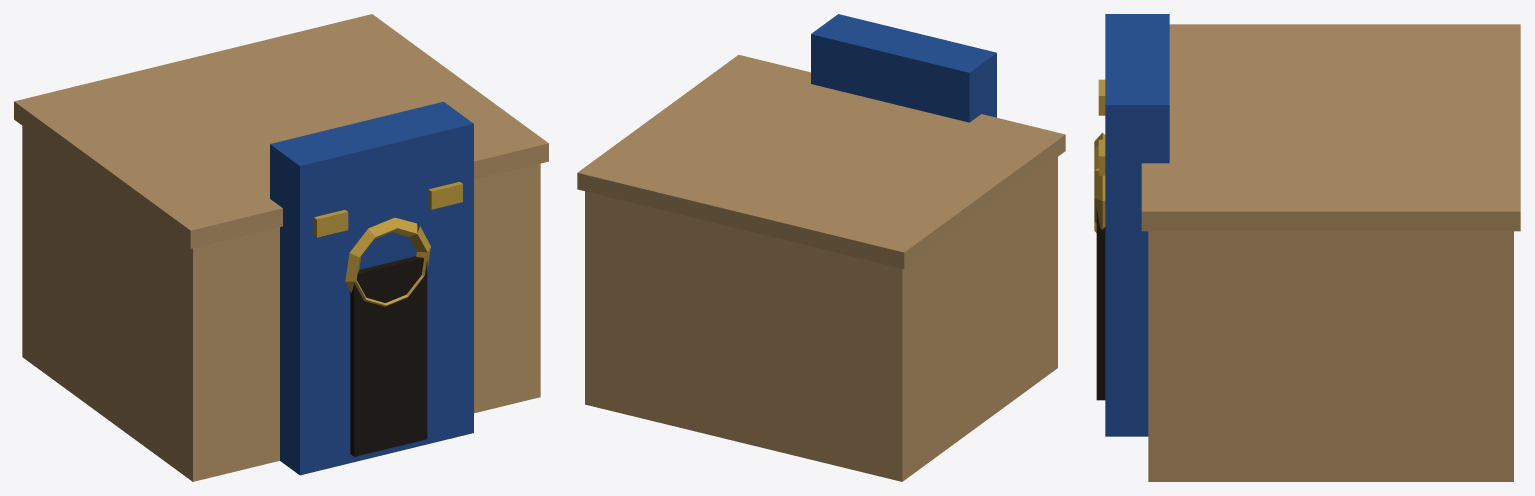
Rendered from minotaur_house_c_broken.glb.
The picture shows the model from 3 angles, left to right: view 1: azimuth 30°, elevation 25°; view 2: azimuth 150°, elevation 25°; view 3: azimuth 270°, elevation 25°; orthographic projection. The views are drawn at different scales.
Parts seen in each view (by area): view 1: minotaur_house_c_piece0, minotaur_house_c_piece4, minotaur_house_c_piece2, minotaur_house_c_piece1, minotaur_house_c_piece9, minotaur_house_c_piece3, minotaur_house_c_piece5, minotaur_house_c_piece6, minotaur_house_c_piece8; view 2: minotaur_house_c_piece3, minotaur_house_c_piece0, minotaur_house_c_piece5, minotaur_house_c_piece8, minotaur_house_c_piece1, minotaur_house_c_piece4, minotaur_house_c_piece9, minotaur_house_c_piece2, minotaur_house_c_piece7; view 3: minotaur_house_c_piece5, minotaur_house_c_piece1, minotaur_house_c_piece3, minotaur_house_c_piece4, minotaur_house_c_piece0, minotaur_house_c_piece6, minotaur_house_c_piece2.
Boxes of the visible parts, x1,y1,x2,y2 form: minotaur_house_c_piece0: (16,103,267,426); minotaur_house_c_piece4: (277,104,473,442); minotaur_house_c_piece2: (215,132,432,475); minotaur_house_c_piece1: (283,85,548,342); minotaur_house_c_piece9: (45,255,258,481); minotaur_house_c_piece3: (14,43,299,156); minotaur_house_c_piece5: (254,14,469,102); minotaur_house_c_piece6: (439,305,540,441); minotaur_house_c_piece8: (22,155,62,385); minotaur_house_c_piece3: (681,136,910,396); minotaur_house_c_piece0: (870,117,1065,358); minotaur_house_c_piece5: (577,107,783,416); minotaur_house_c_piece8: (700,287,938,481); minotaur_house_c_piece1: (667,29,853,161); minotaur_house_c_piece4: (818,14,996,123); minotaur_house_c_piece9: (923,317,1057,454); minotaur_house_c_piece2: (848,68,996,170); minotaur_house_c_piece7: (637,389,725,438); minotaur_house_c_piece5: (1251,129,1520,481); minotaur_house_c_piece1: (1105,99,1372,452); minotaur_house_c_piece3: (1270,24,1520,149); minotaur_house_c_piece4: (1094,14,1242,400); minotaur_house_c_piece0: (1169,24,1515,86); minotaur_house_c_piece6: (1105,302,1308,481); minotaur_house_c_piece2: (1099,14,1344,400).
Bounding box in the file's own units: 2.06 × 1.7 × 1.98.
